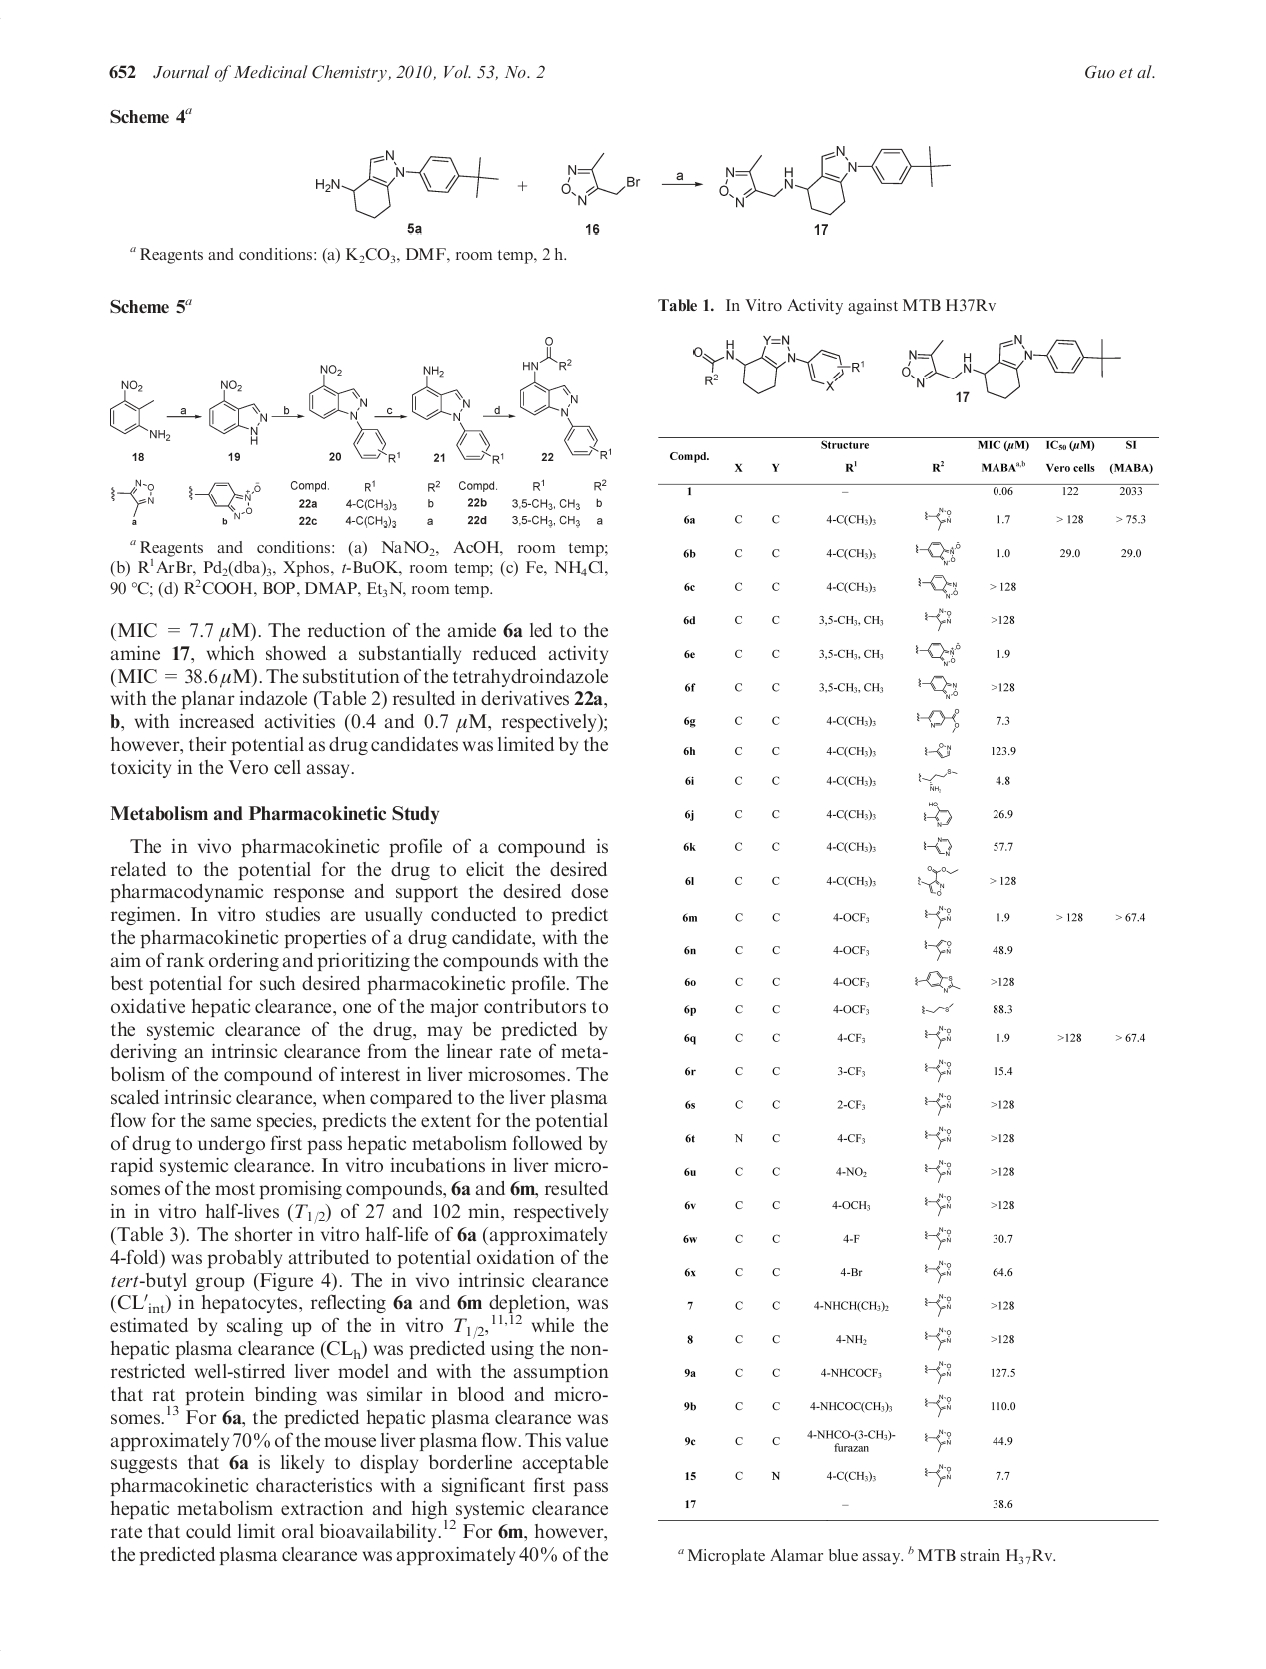exist_molecular: (717, 144, 953, 217), (902, 336, 1122, 400), (313, 148, 501, 222), (519, 336, 612, 461), (693, 332, 866, 394), (410, 364, 505, 465), (309, 364, 400, 465), (561, 152, 642, 207), (206, 378, 269, 448), (108, 376, 170, 446), (188, 481, 263, 520), (108, 477, 156, 519), (918, 864, 960, 896), (914, 539, 961, 567), (914, 641, 961, 666), (916, 707, 961, 734), (914, 969, 961, 993), (918, 767, 959, 794), (918, 674, 959, 700), (916, 575, 959, 598), (923, 801, 953, 829), (924, 1124, 953, 1150), (923, 505, 953, 531), (924, 904, 953, 930), (924, 1025, 953, 1051), (924, 1192, 953, 1217), (924, 1226, 953, 1251), (924, 1293, 953, 1318), (924, 1392, 953, 1418), (923, 606, 953, 630), (923, 1092, 953, 1116), (923, 1259, 953, 1283), (923, 1463, 953, 1487), (924, 1326, 952, 1351), (924, 938, 953, 962), (924, 1059, 953, 1083), (924, 1160, 953, 1184), (924, 1430, 953, 1454), (924, 1360, 952, 1384), (923, 836, 953, 856), (924, 741, 953, 759), (922, 1001, 953, 1016)
